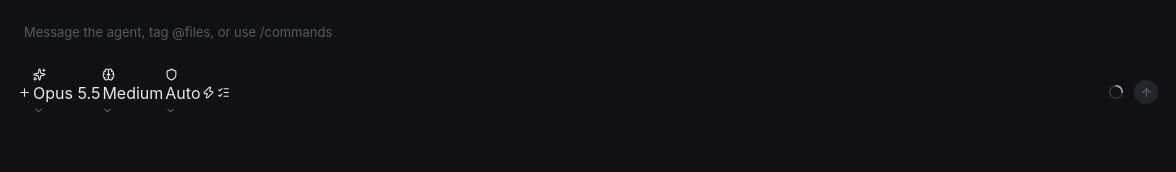
AcpPromptBox › completes a slash command with Tab
Type "/rev" into the text box.
click(588, 40); type("/rev")  # box [12, 12, 1164, 68]
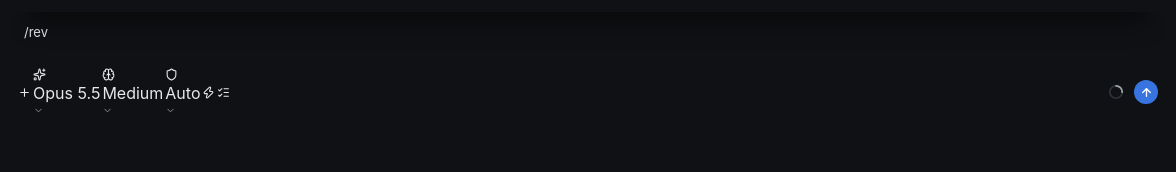
Press Tab
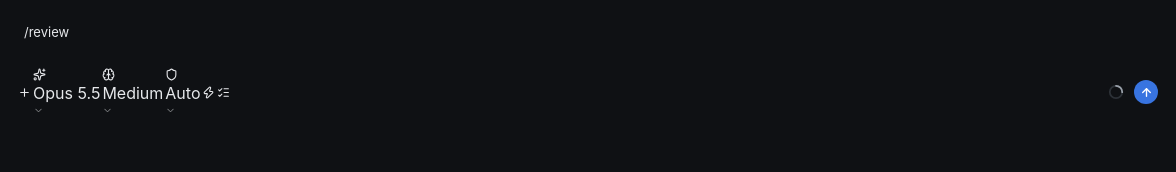
Check: the text box holds "/review ", box [12, 12, 1164, 68]
